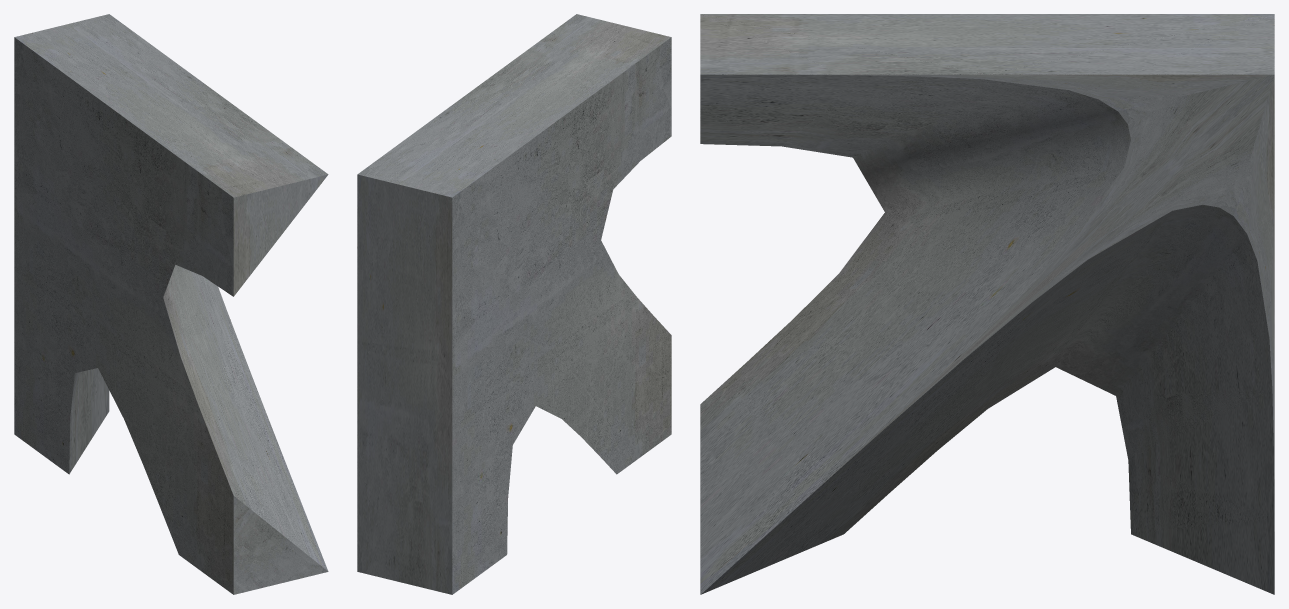
The model's file is module_H2.fbx.
3 views of the same model, side by side, from view 1: azimuth 30°, elevation 25°; view 2: azimuth 150°, elevation 25°; view 3: azimuth 270°, elevation 25° (orthographic). The views are drawn at different scales.
Visible parts, largest first — view 1: modules; view 2: modules; view 3: modules.
Boxes of the visible parts, bbox=[...] form: modules: bbox=[14, 14, 328, 594]; modules: bbox=[357, 14, 671, 594]; modules: bbox=[700, 14, 1274, 594].
Bounding box in the file's own units: 250 × 1000 × 1000.
Materials: 1 (1 with a texture image).
